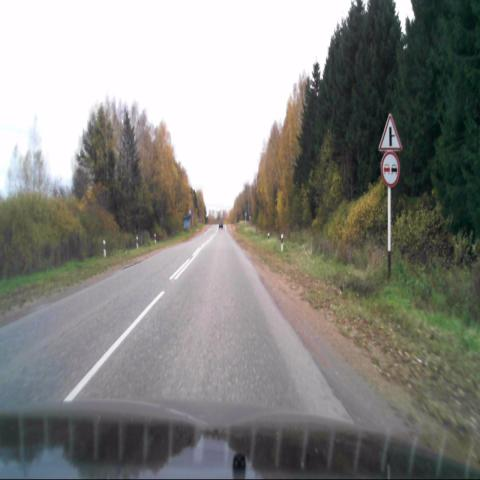3_20: (380, 151, 400, 188)
